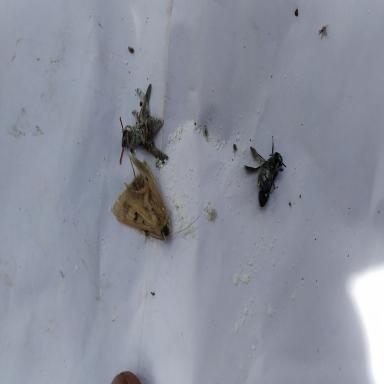abw: (110, 153, 200, 243)
